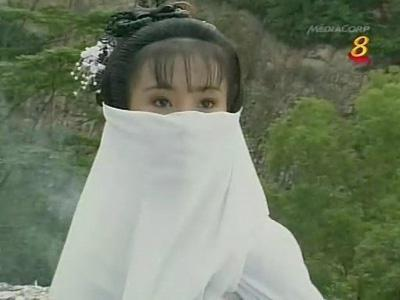OK: (133, 73, 233, 173)
